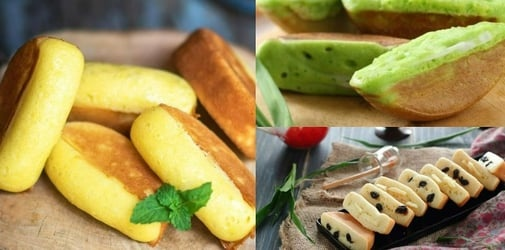pukis: (338, 15, 501, 125)
